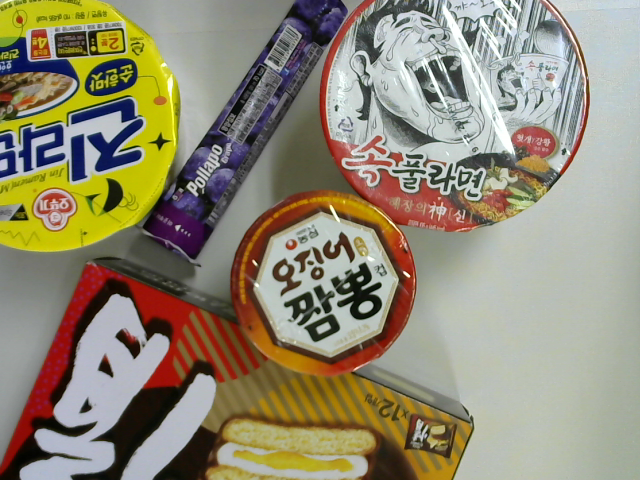Choco_Pie_Banana: (1, 252, 479, 480)
Hejangpul: (317, 1, 597, 233)
Jinlamyeon_Mild_Taste_Large_Cup: (2, 1, 188, 263)
Ojjam: (228, 191, 423, 379)
Polapo_Grape: (134, 1, 358, 272)
